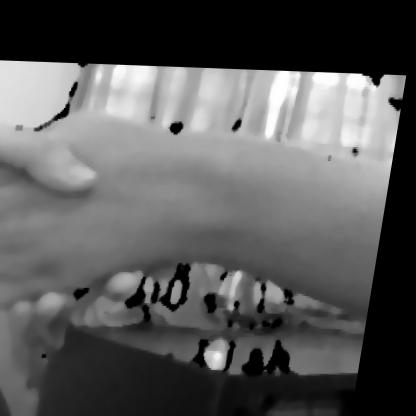handshake: (0, 103, 401, 366)
